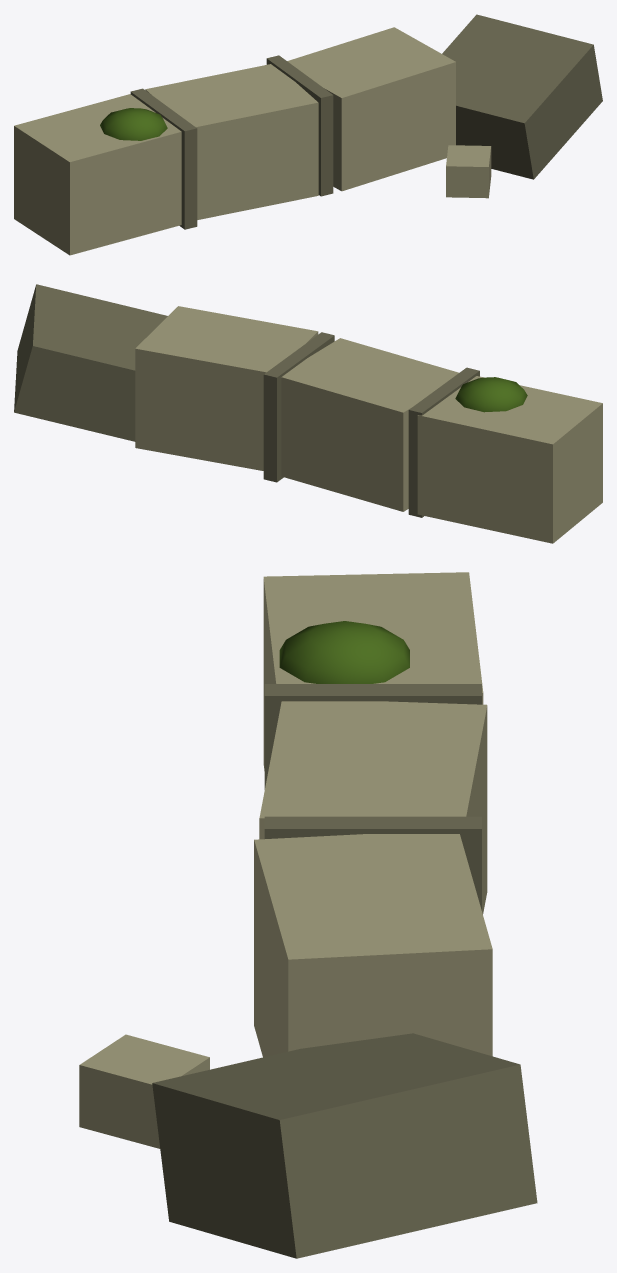
File: jt_collapsed_column.glb
The picture shows the model from 3 angles, top to bottom: view 1: azimuth 30°, elevation 25°; view 2: azimuth 150°, elevation 25°; view 3: azimuth 270°, elevation 25°; orthographic projection. The views are drawn at different scales.
Visible parts, largest first — view 1: jt_collapsed_column; view 2: jt_collapsed_column; view 3: jt_collapsed_column.
Part boxes in pixels (x1,y1,x2,y2): jt_collapsed_column: [14, 14, 602, 255]; jt_collapsed_column: [14, 284, 602, 543]; jt_collapsed_column: [79, 572, 537, 1258].
Bounding box in the file's own units: 4.41 × 0.936 × 1.6.
